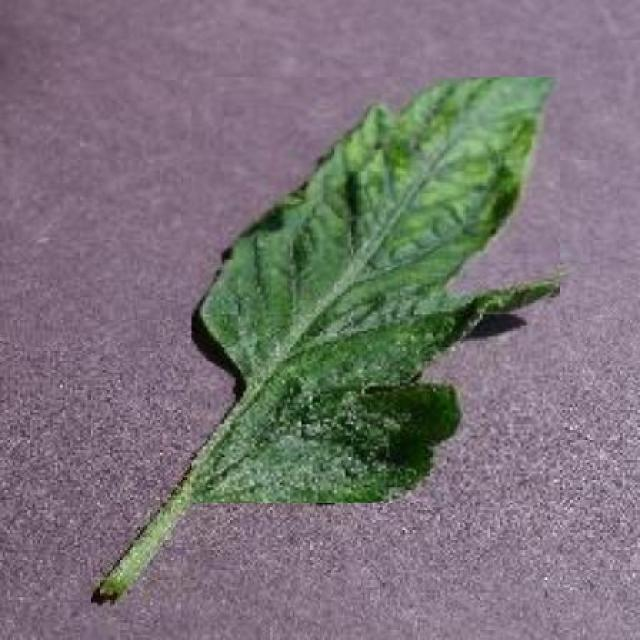Mosaic Virus: (192, 78, 561, 502)
